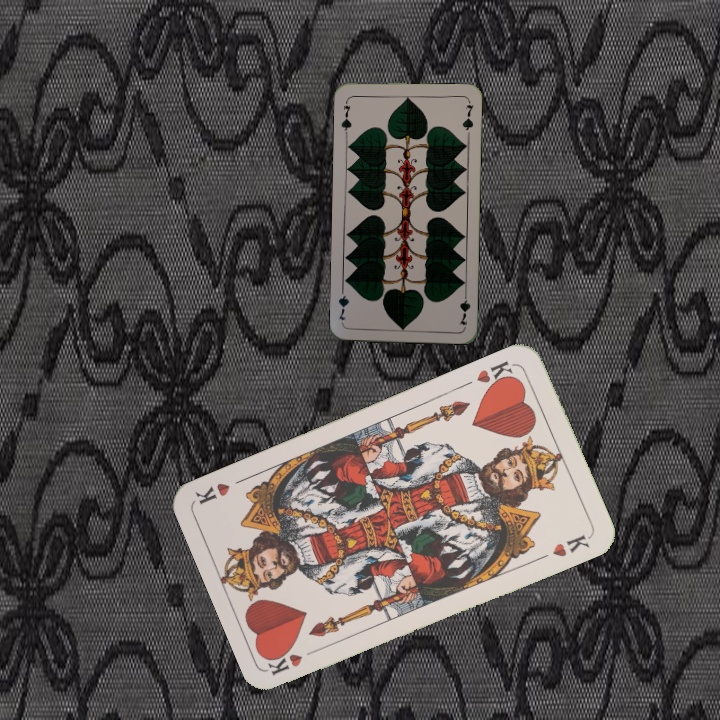G7: (455, 287, 473, 328), (337, 96, 354, 137)
HK: (265, 644, 323, 679), (472, 357, 518, 392)
